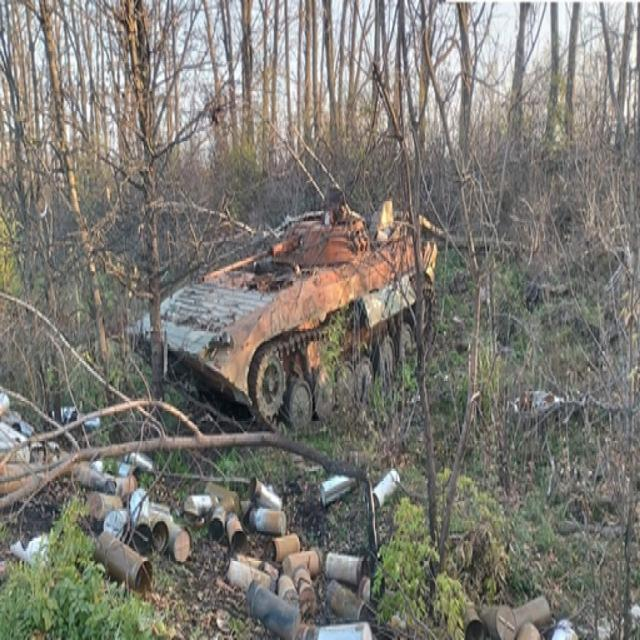APC-IFV: (120, 187, 442, 416)
